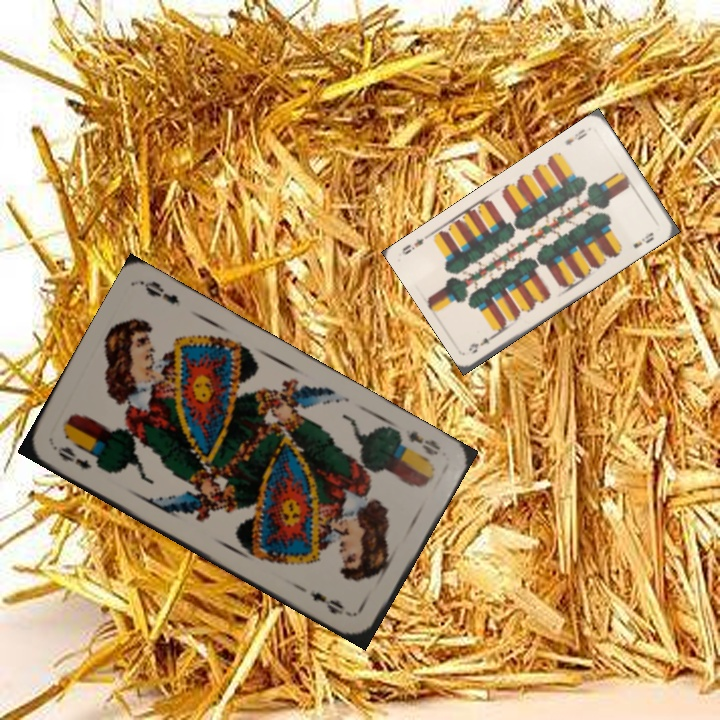E9: (464, 327, 502, 357), (561, 125, 590, 149)
EO: (401, 425, 444, 459), (54, 442, 94, 472)
